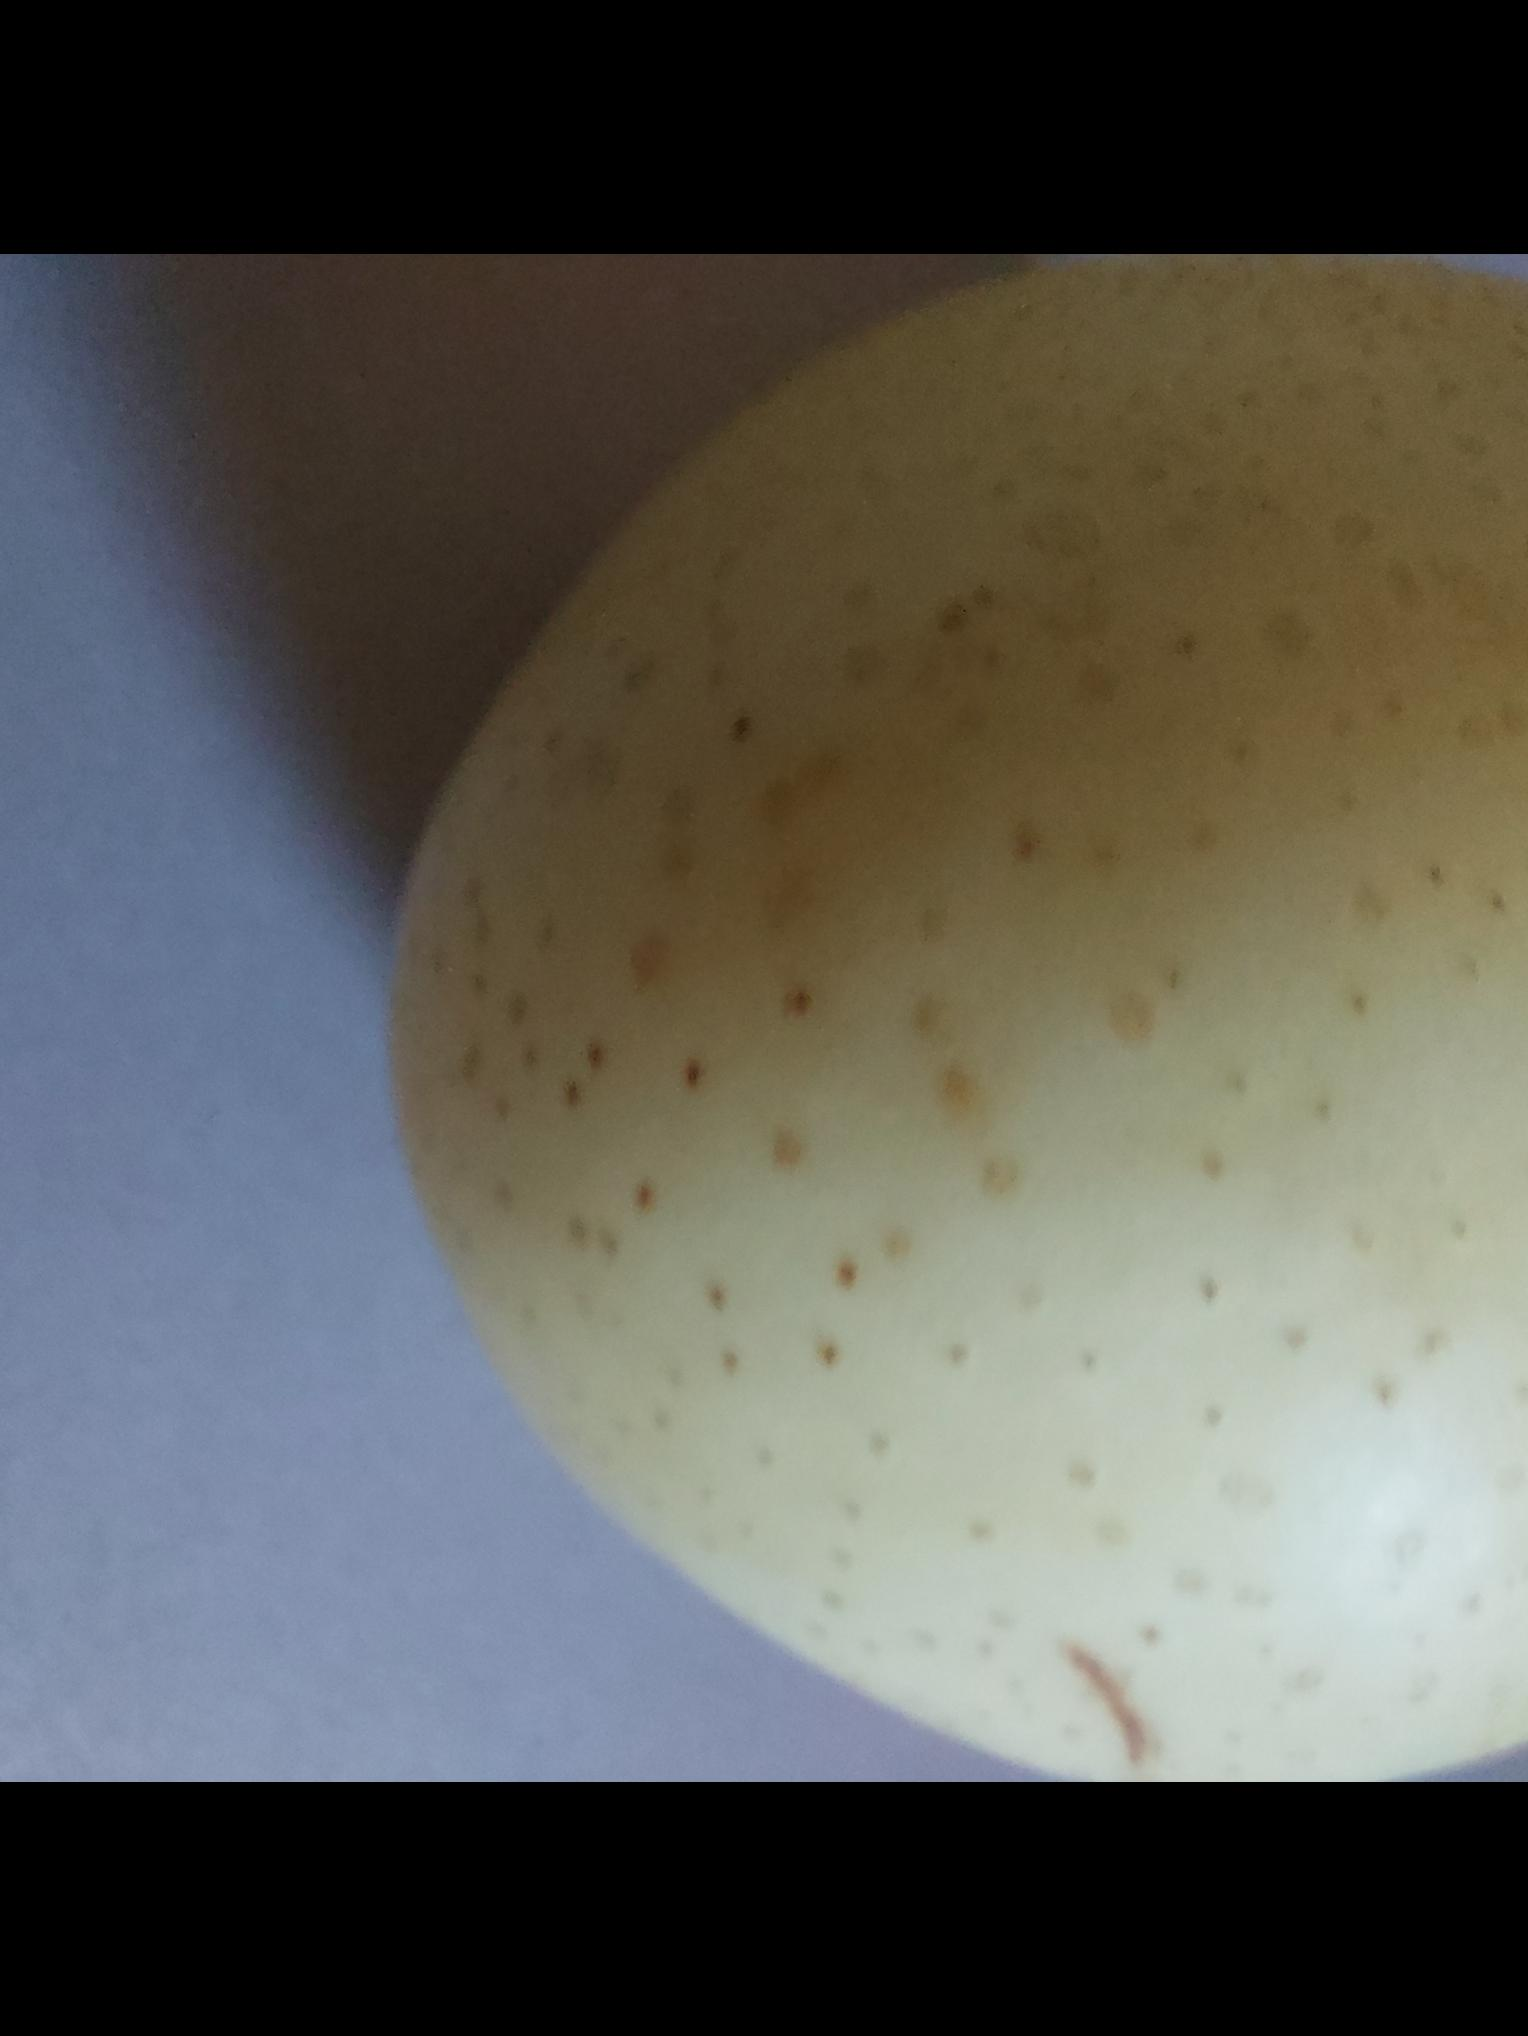Good Pear: (392, 253, 1528, 1783)
